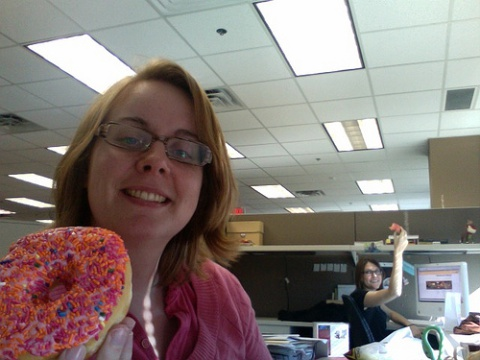hand: (393, 227, 408, 253)
